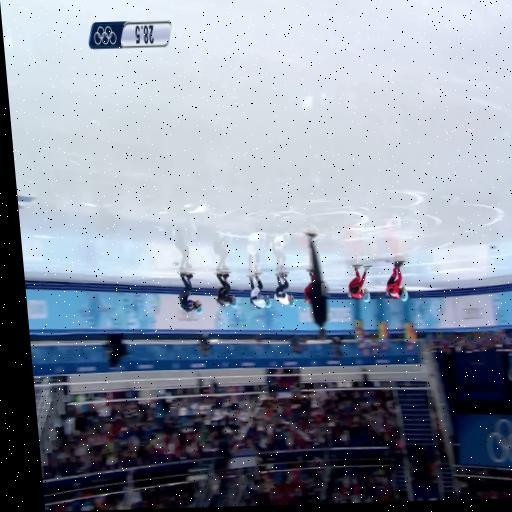Skater: (179, 272, 201, 313), (385, 261, 407, 300), (348, 265, 369, 301), (215, 271, 236, 307), (248, 273, 270, 307), (274, 271, 294, 306), (303, 269, 313, 303)
